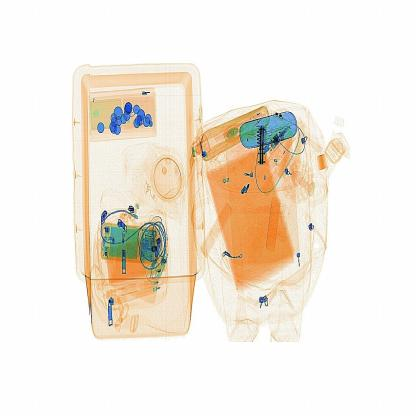scissors: (254, 125, 273, 173)
